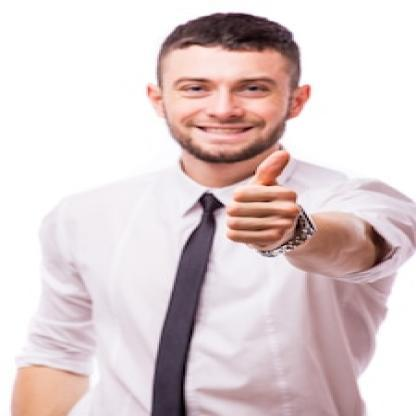thumb_up: (219, 148, 308, 252)
